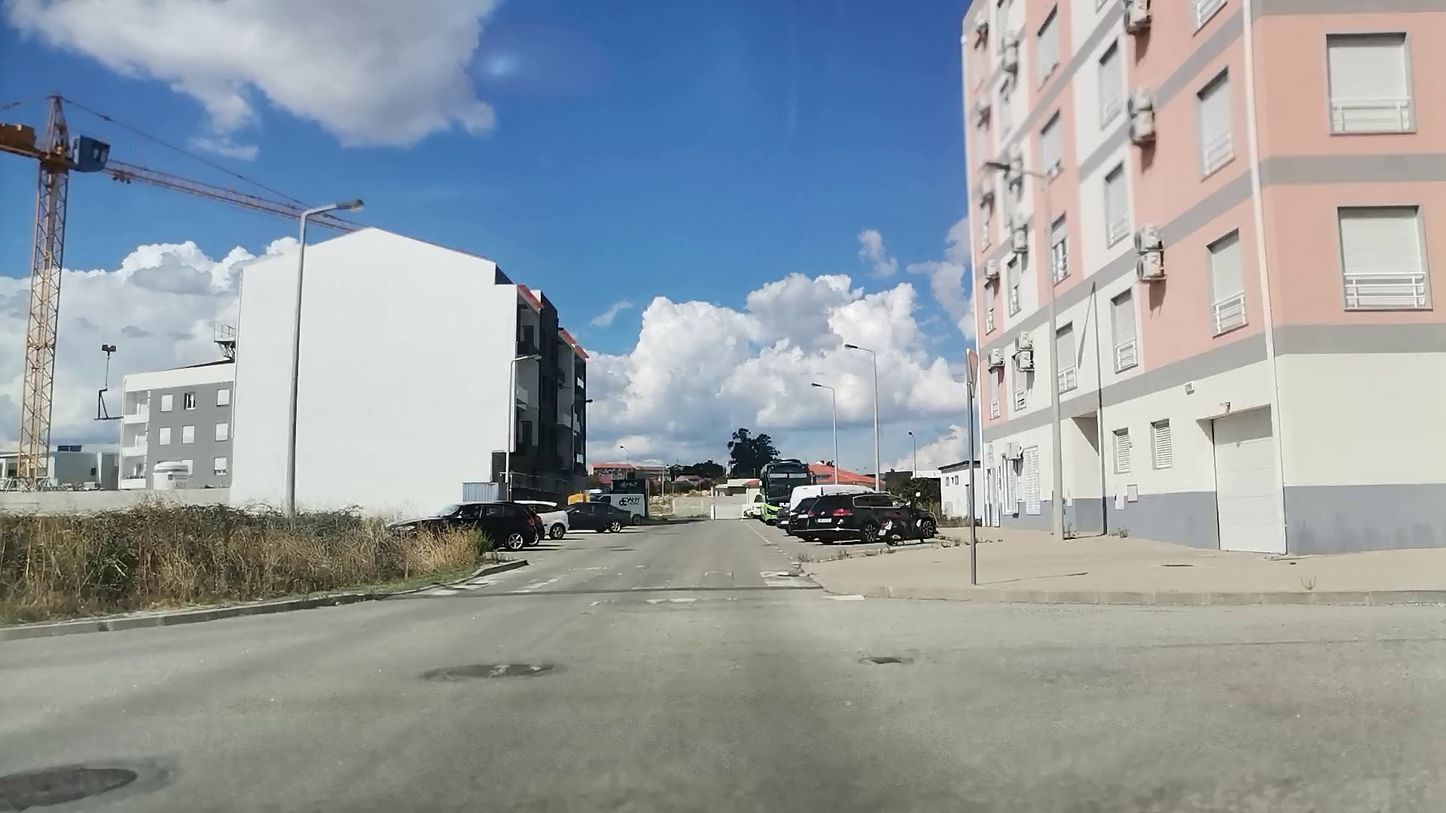Stairs: (423, 567, 830, 596)
